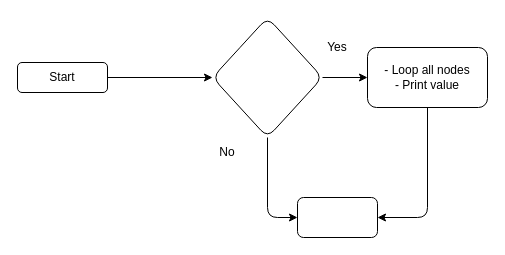
The diagram is 505 pixels wide and 255 high, and some of its shapes have lost their labels. The shapes that lost their labels are listed below. From the top down, each one's centre as x and y in pixels, then its label:
the point at 267,77: Check Head?
the point at 337,217: Terminate
